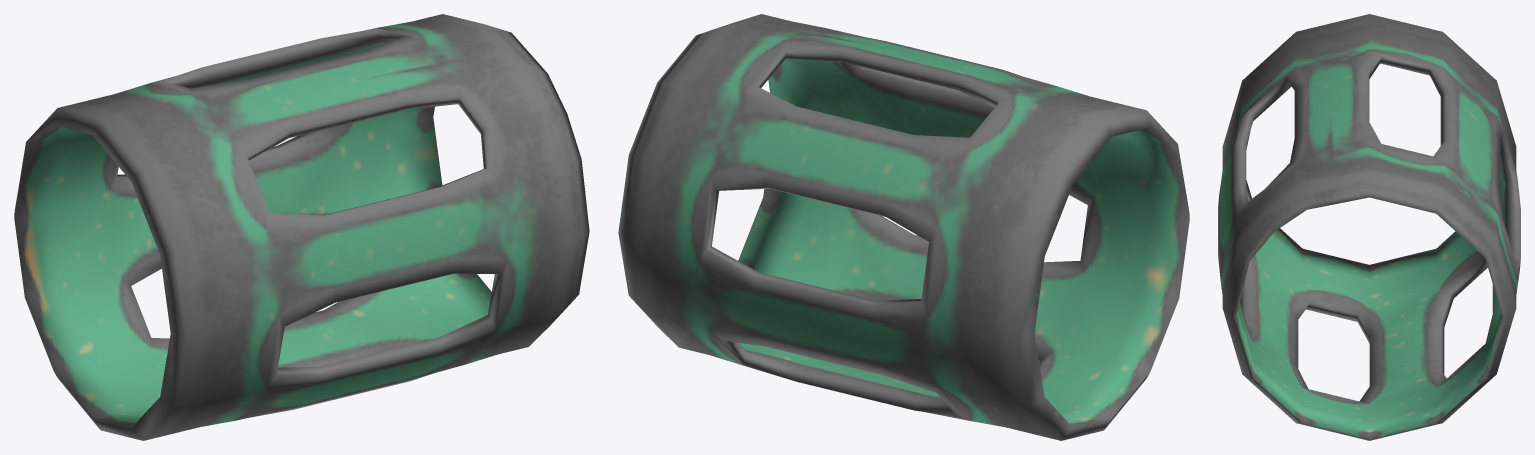
File: Fire_Mouth_1.fbx
The picture shows the model from 3 angles, left to right: view 1: azimuth 30°, elevation 25°; view 2: azimuth 150°, elevation 25°; view 3: azimuth 270°, elevation 25°; orthographic projection. The views are drawn at different scales.
Visible parts, largest first — view 1: Fire_Mouth_1; view 2: Fire_Mouth_1; view 3: Fire_Mouth_1.
Part boxes in pixels (left/top/right/bottom): Fire_Mouth_1: left=14, top=14, right=589, bottom=440; Fire_Mouth_1: left=618, top=14, right=1189, bottom=440; Fire_Mouth_1: left=1218, top=14, right=1520, bottom=440.
Size of the model in its own units: 0.0377 by 0.0277 by 0.0277.
